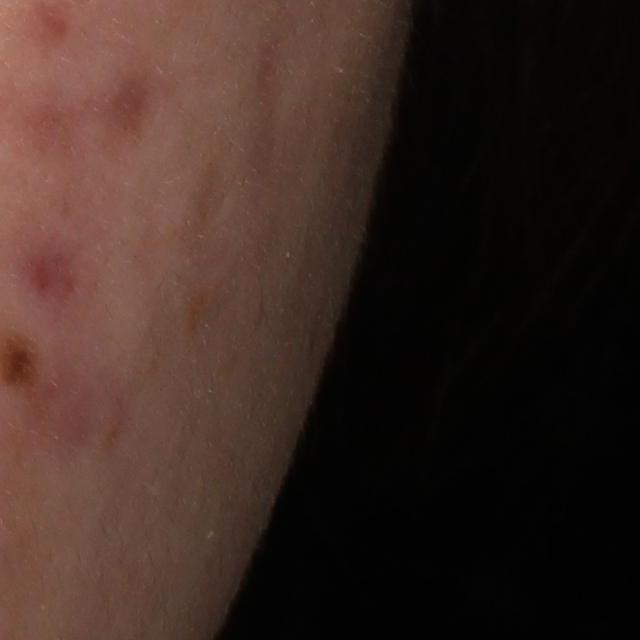nevus: (2, 340, 36, 383)
